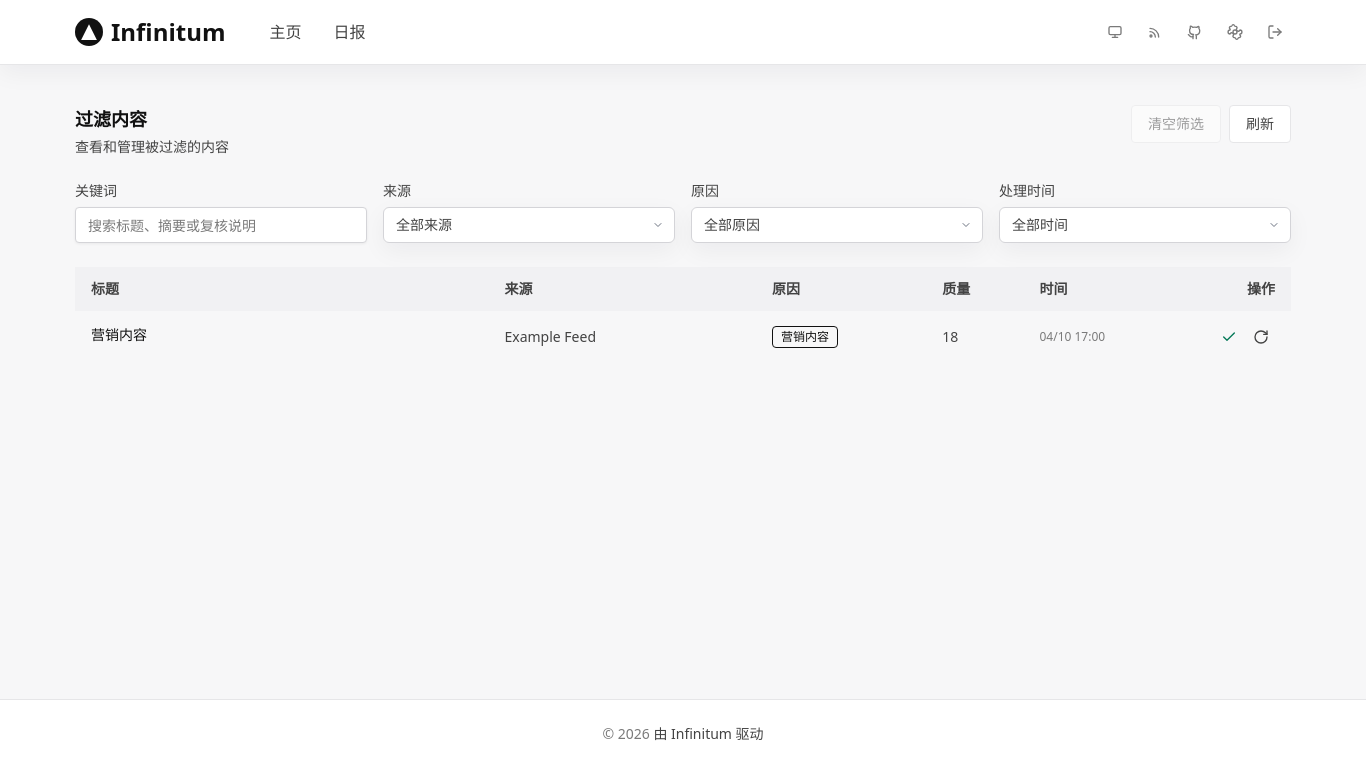
Test: ContentReviewPanel › loads filtered items and restores one item
Expected: the heading "过滤内容" is shown, [75,107,147,131]
Expected: the navigation bar named "主导航" is shown, [270,21,366,43]
Click the button titled "恢复内容".
click(1229, 337)  # box [1215,323,1243,351]
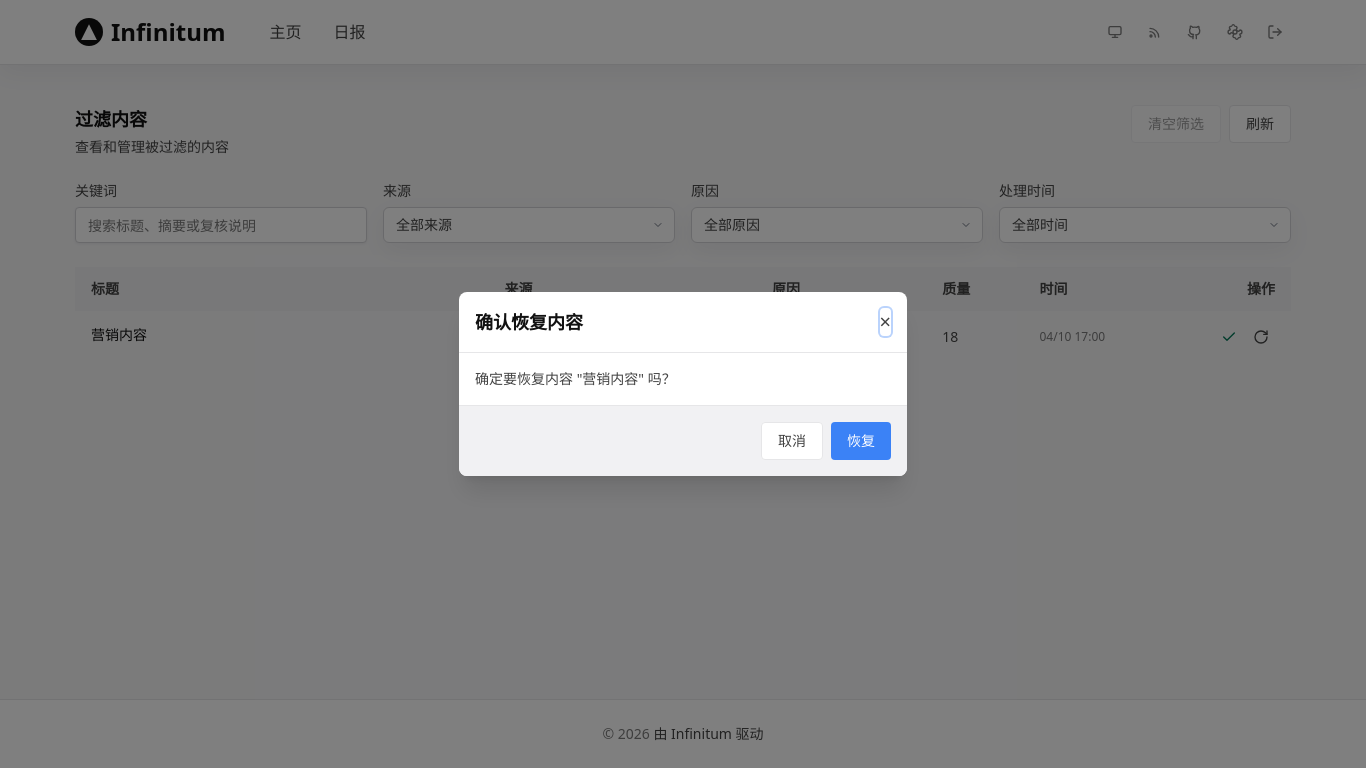
Expected: the dialog "确认恢复内容" is shown, [459,292,907,476]
Click the button "恢复".
click(861, 441)  # box [831,422,891,460]
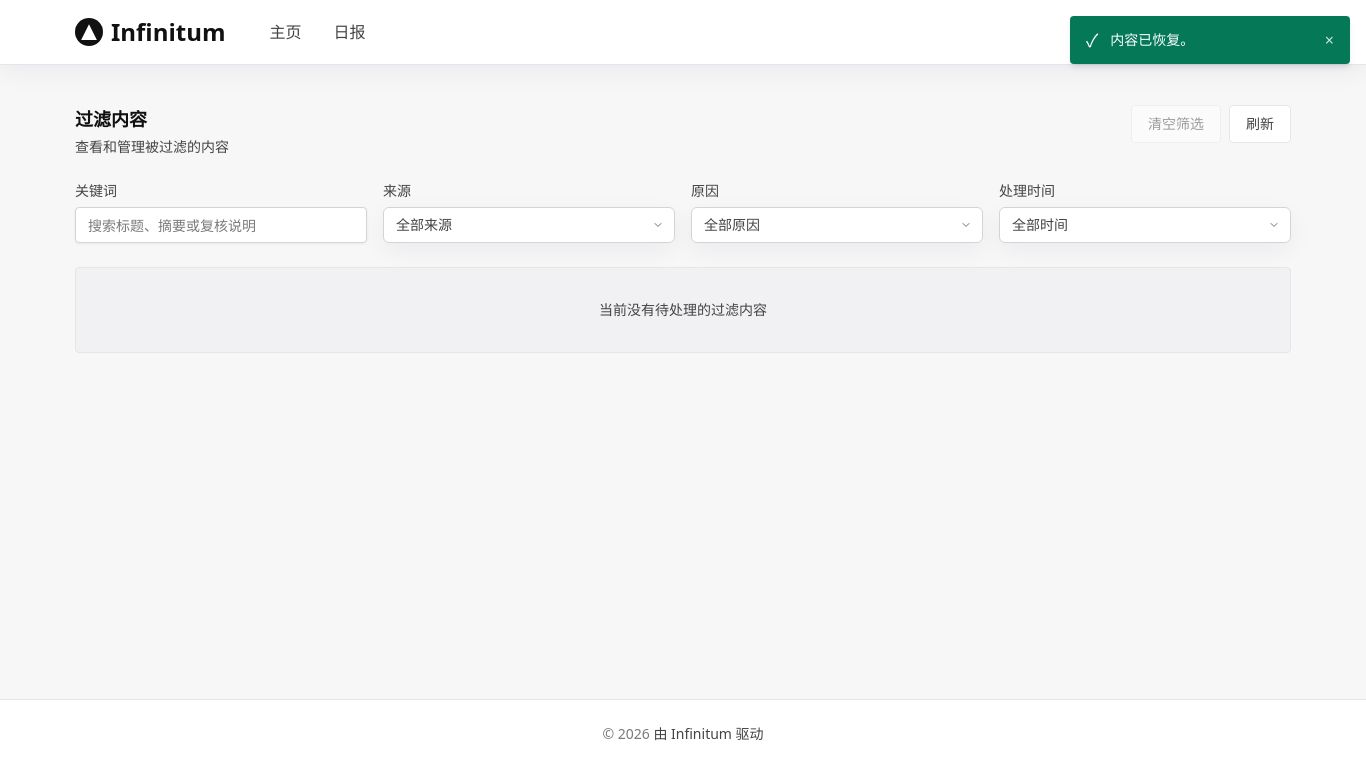
Expected: the message shows "内容已恢复。", [1110,30,1194,49]
